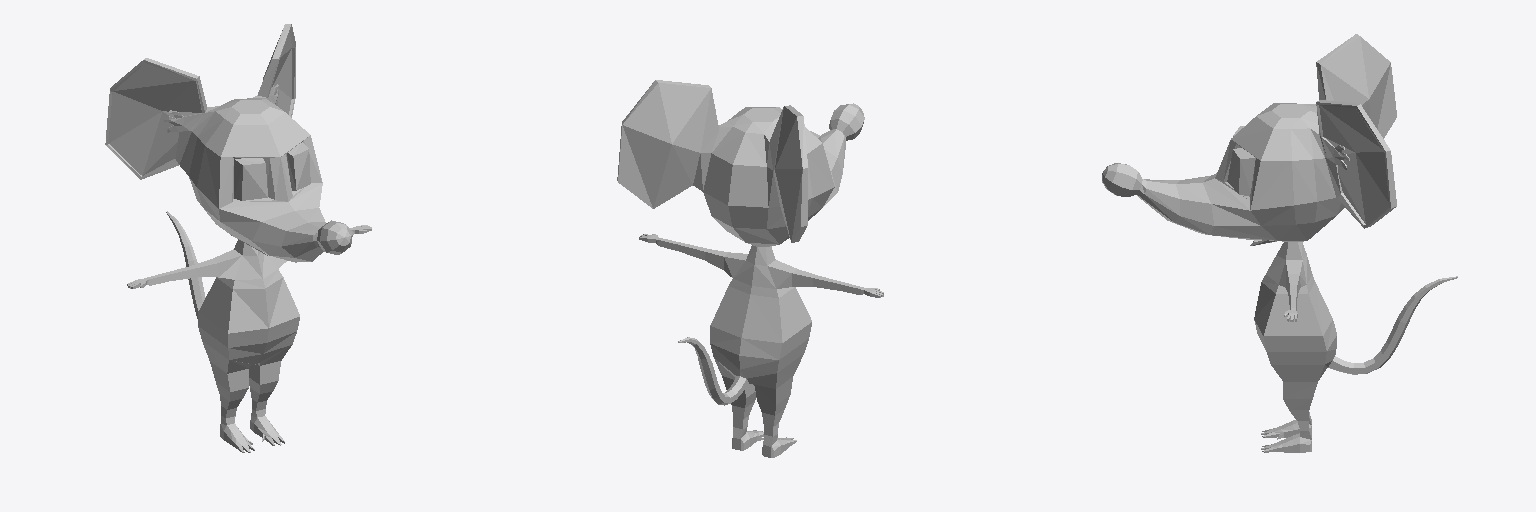
File: rat.obj
3 renders of one model, left to right at view 1: azimuth 30°, elevation 25°; view 2: azimuth 150°, elevation 25°; view 3: azimuth 270°, elevation 25°, orthographic.
Visible parts, largest first — view 1: polySurface1, polySurface4; view 2: polySurface1; view 3: polySurface1, polySurface4.
Boxes of the visible parts, <box> form: polySurface1: <box>105,24,371,452</box>; polySurface4: <box>234,142,310,200</box>; polySurface1: <box>617,80,883,457</box>; polySurface1: <box>1102,34,1457,452</box>; polySurface4: <box>1227,126,1255,196</box>.
Bounding box in the file's own units: 8.97 × 13.21 × 11.46.